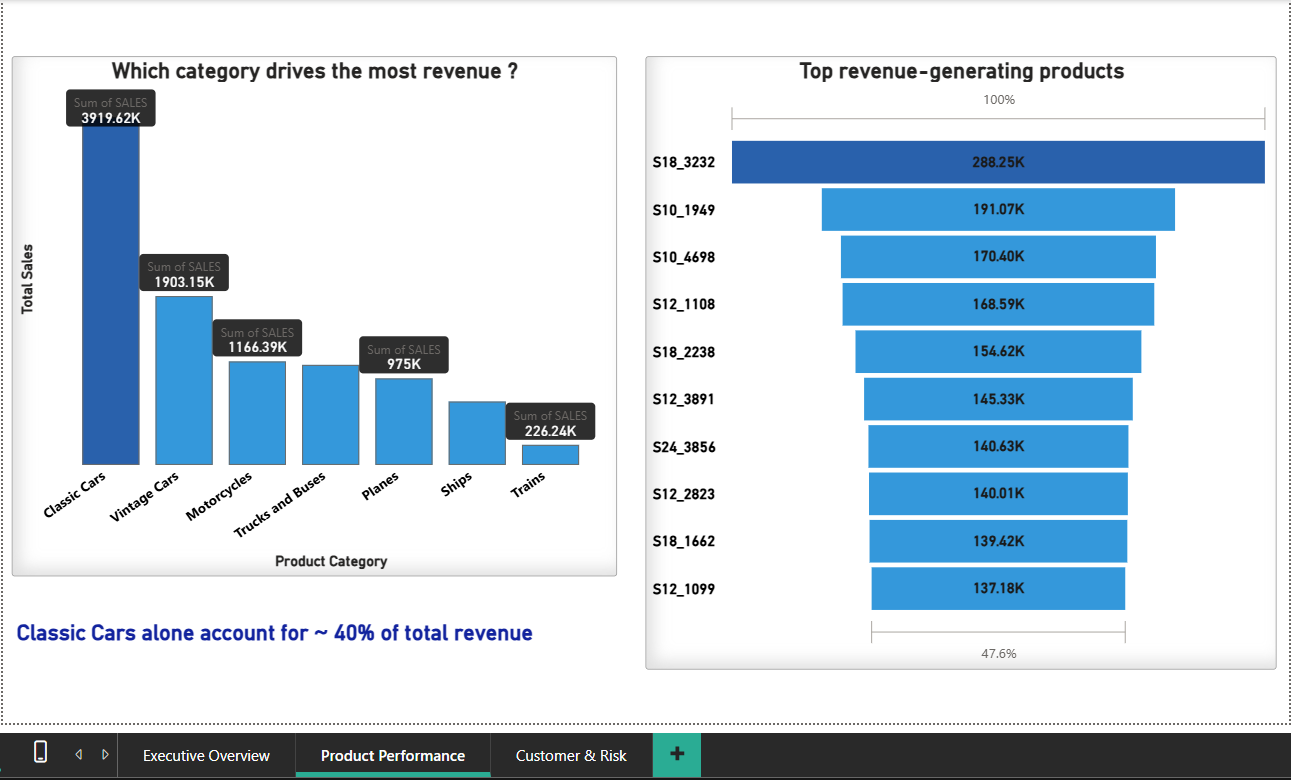

The dashboard page shown, as its layout file describes it:
{"tool":"powerbi","page":{"name":"Product Performance","canvas":[1280,720],"ordinal":1},"visuals":[{"type":"lineClusteredColumnComboChart","title":"Which category drives the most revenue ?","fields":{"Category":["sales_data_sample.PRODUCTLINE"],"Y":["Sum(sales_data_sample.SALES)"]},"box":[8.7,56.4,602.1,517.5],"z":0},{"type":"funnel","title":"Top revenue-generating products","fields":{"Category":["sales_data_sample.PRODUCTCODE"],"Y":["Sum(sales_data_sample.SALES)"]},"box":[639.4,56.4,628.2,610.8],"z":1000},{"type":"textbox","box":[8.7,612,602.1,80.9],"z":4000}]}

Visuals, with their boxes on the page's 1280x720 design canvas (x1, y1, x2, y2). These are canvas units, not pixel positions in the 1291x780 screenshot, which may show the page scaled, cropped or inside an application window:
"Which category drives the most revenue ?" lineClusteredColumnComboChart: <region>9, 56, 611, 574</region>
"Top revenue-generating products" funnel: <region>639, 56, 1268, 667</region>
textbox: <region>9, 612, 611, 693</region>
